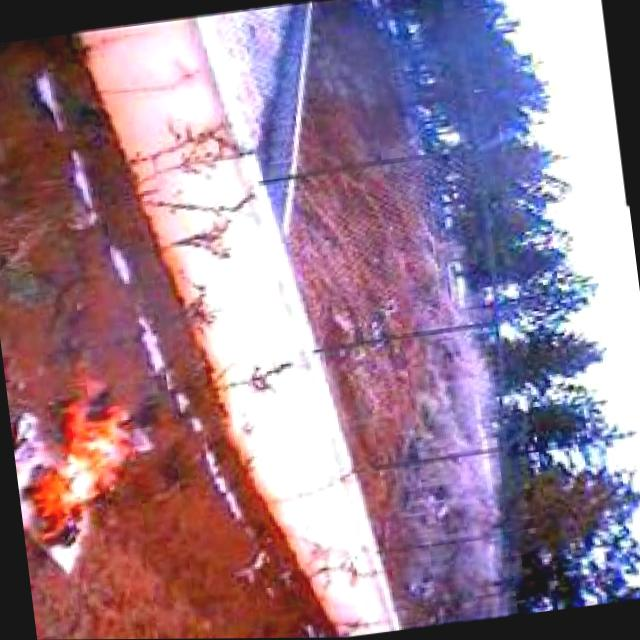Fire: (6, 362, 158, 556)
